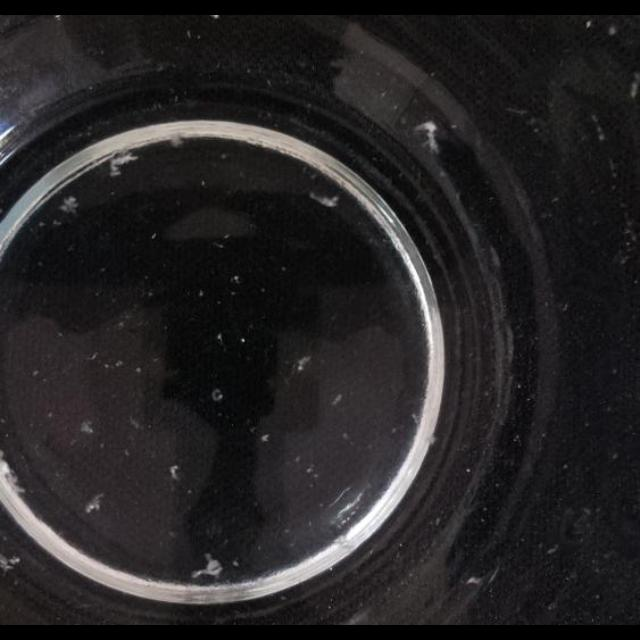Fibre: (488, 288, 516, 407), (0, 455, 26, 497), (192, 552, 225, 580), (416, 120, 442, 154), (108, 150, 140, 176), (310, 188, 340, 208), (84, 492, 104, 516), (58, 196, 78, 214), (294, 355, 312, 373), (594, 122, 606, 142), (169, 465, 181, 481), (633, 73, 640, 99), (608, 24, 618, 36)
microbeads: (0, 550, 20, 574), (129, 415, 143, 431), (80, 421, 94, 435), (466, 575, 482, 585), (331, 394, 343, 406), (547, 544, 559, 556), (410, 412, 420, 424), (88, 351, 99, 361), (231, 274, 241, 284), (216, 332, 224, 344), (259, 433, 269, 442), (342, 432, 350, 442), (52, 219, 62, 227), (115, 360, 124, 368), (134, 366, 142, 374), (306, 466, 314, 474), (232, 560, 240, 568), (150, 232, 158, 240), (198, 289, 205, 297), (465, 466, 471, 474), (32, 368, 38, 376), (240, 338, 246, 344)
